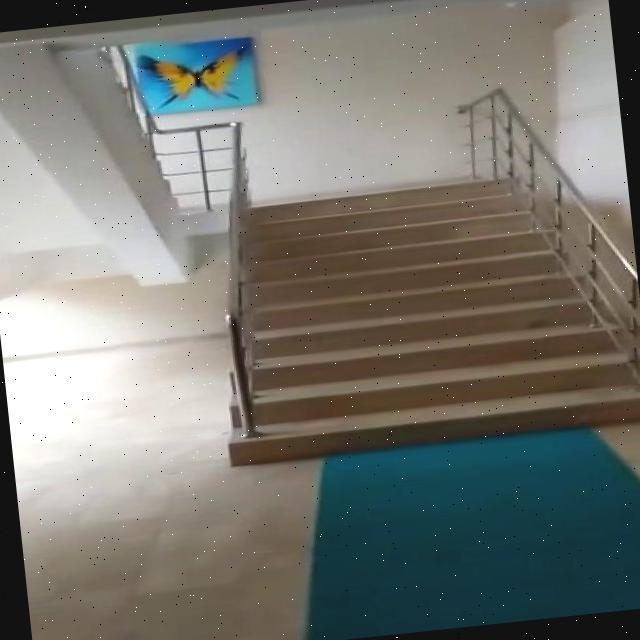stairs: (202, 161, 640, 463)
